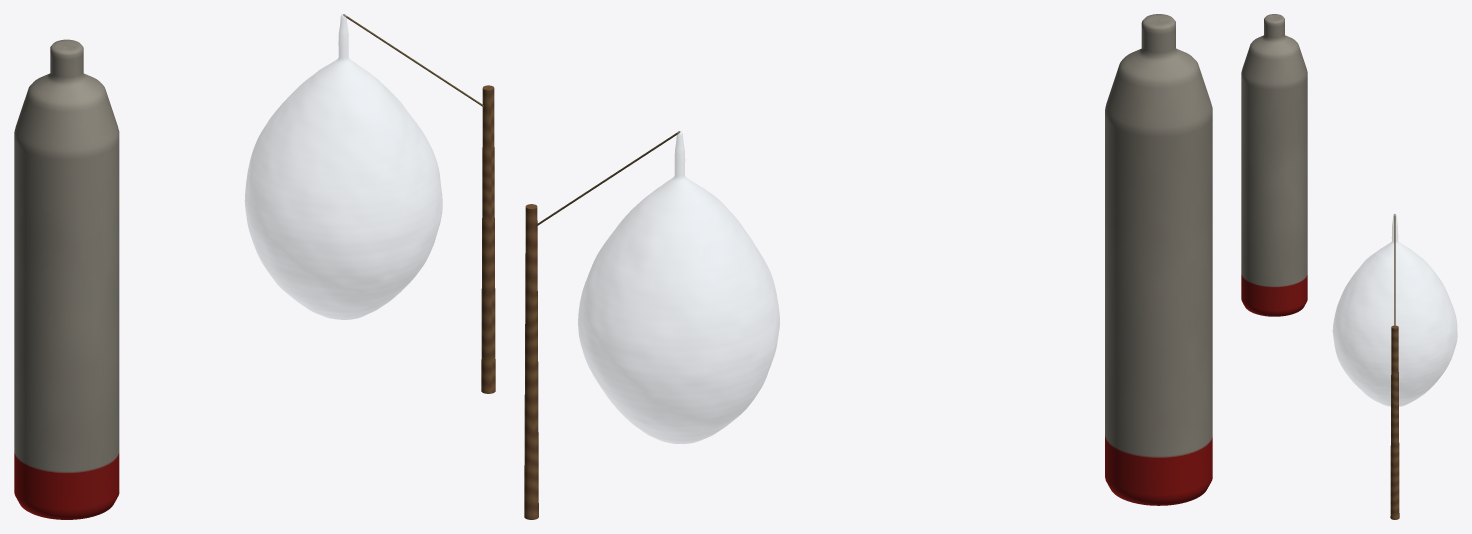
File: acetylene_L3.glb
3 views of the same model, side by side, from view 1: azimuth 30°, elevation 25°; view 2: azimuth 150°, elevation 25°; view 3: azimuth 270°, elevation 25° (orthographic). The views are drawn at different scales.
Visible parts, largest first — view 1: cylinder, bag, stake; view 2: cylinder, bag, stake; view 3: cylinder, bag, stake.
Part boxes in pixels (x1=…): cylinder: x1=14, y1=39, x2=119, y2=519; bag: x1=245, y1=14, x2=442, y2=319; stake: x1=481, y1=85, x2=495, y2=393; cylinder: x1=1105, y1=14, x2=1212, y2=505; bag: x1=578, y1=131, x2=779, y2=443; stake: x1=524, y1=204, x2=538, y2=519; cylinder: x1=1241, y1=14, x2=1307, y2=316; bag: x1=1333, y1=214, x2=1457, y2=406; stake: x1=1390, y1=325, x2=1399, y2=519.
Bounding box in the file's own units: 1.38 × 1.25 × 0.7177.
4 materials, 2 textured.
